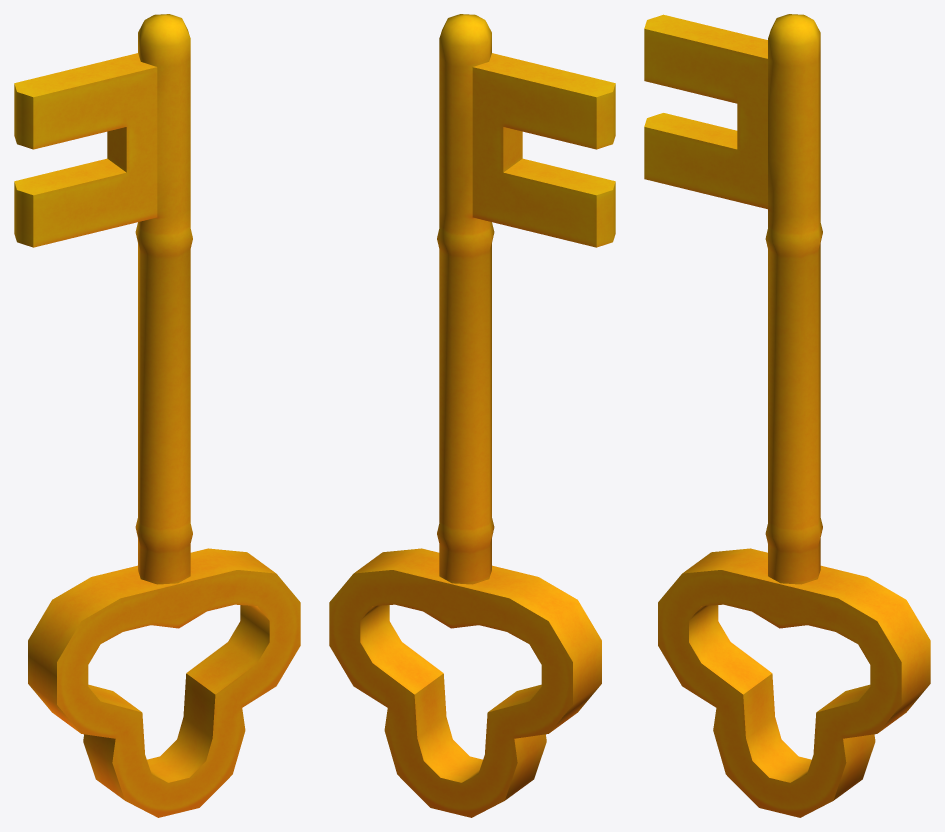
File: Key.FBX
3 views of the same model, side by side, from view 1: azimuth 30°, elevation 25°; view 2: azimuth 150°, elevation 25°; view 3: azimuth 330°, elevation 25° (orthographic).
Visible parts, largest first — view 1: Key; view 2: Key; view 3: Key.
Boxes of the visible parts, <box> form: Key: <box>14,14,300,817</box>; Key: <box>329,14,615,817</box>; Key: <box>644,14,930,817</box>.
Size of the model in its own units: 39.73 by 111 by 7.62.
1 material, 1 textured.
